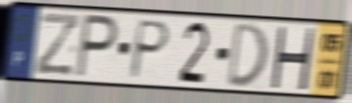2: (177, 20, 212, 86)
D: (225, 20, 270, 90)
H: (268, 24, 317, 92)
P: (73, 12, 120, 81), (127, 18, 173, 81)
Z: (33, 10, 82, 77)
